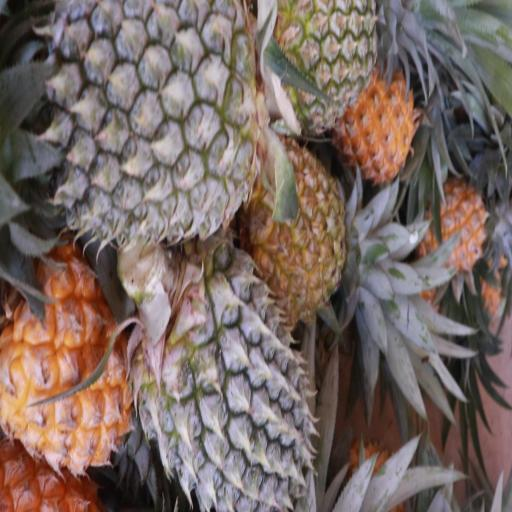------------------------------: (252, 149, 342, 305), (269, 0, 381, 123)
Pineapple - v8 v1: (0, 256, 126, 470), (342, 64, 417, 182), (415, 171, 486, 267)
